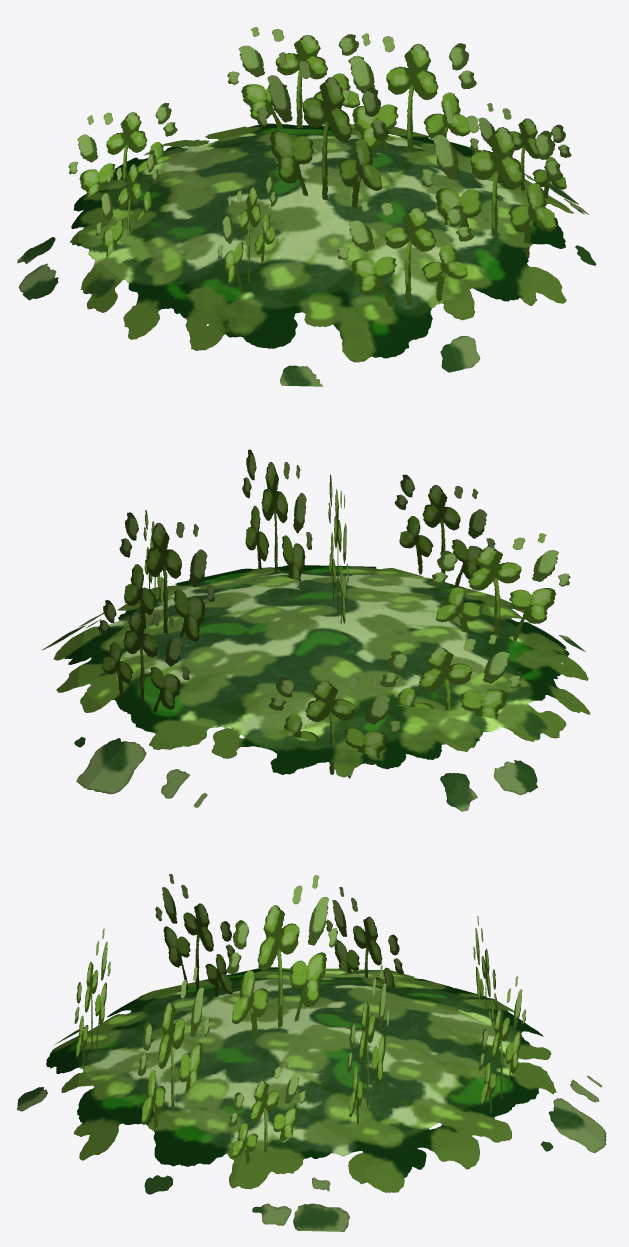
Rendered from Clover patch.fbx.
3 views of the same model, one above another, from view 1: azimuth 30°, elevation 25°; view 2: azimuth 150°, elevation 25°; view 3: azimuth 270°, elevation 25° (orthographic).
Parts seen in each view (by area): view 1: Plane.013; view 2: Plane.013; view 3: Plane.013.
Part boxes in pixels (box(x1,y1,x2,y2)): Plane.013: box(17, 27, 596, 386); Plane.013: box(41, 449, 590, 811); Plane.013: box(17, 874, 606, 1231).
Bounding box in the file's own units: 345 × 140 × 345.
1 material, 1 textured.
